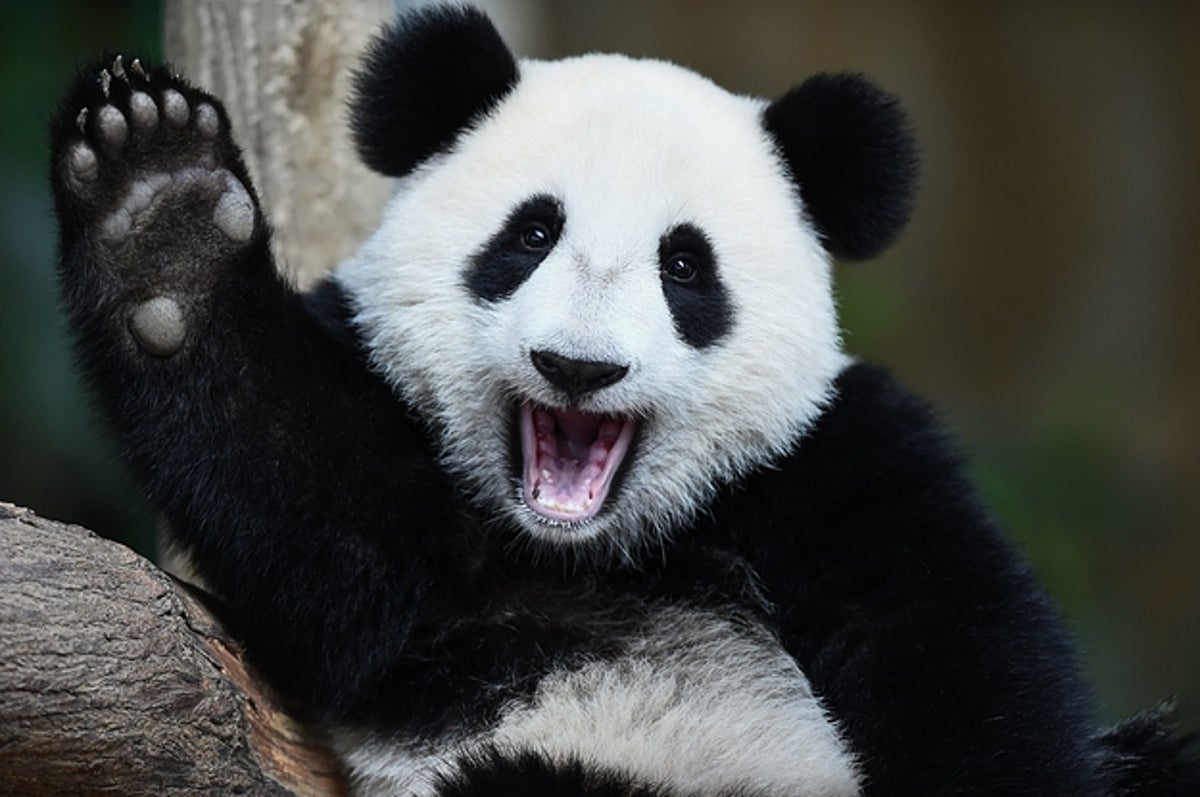Giant panda: (328, 0, 929, 555)
